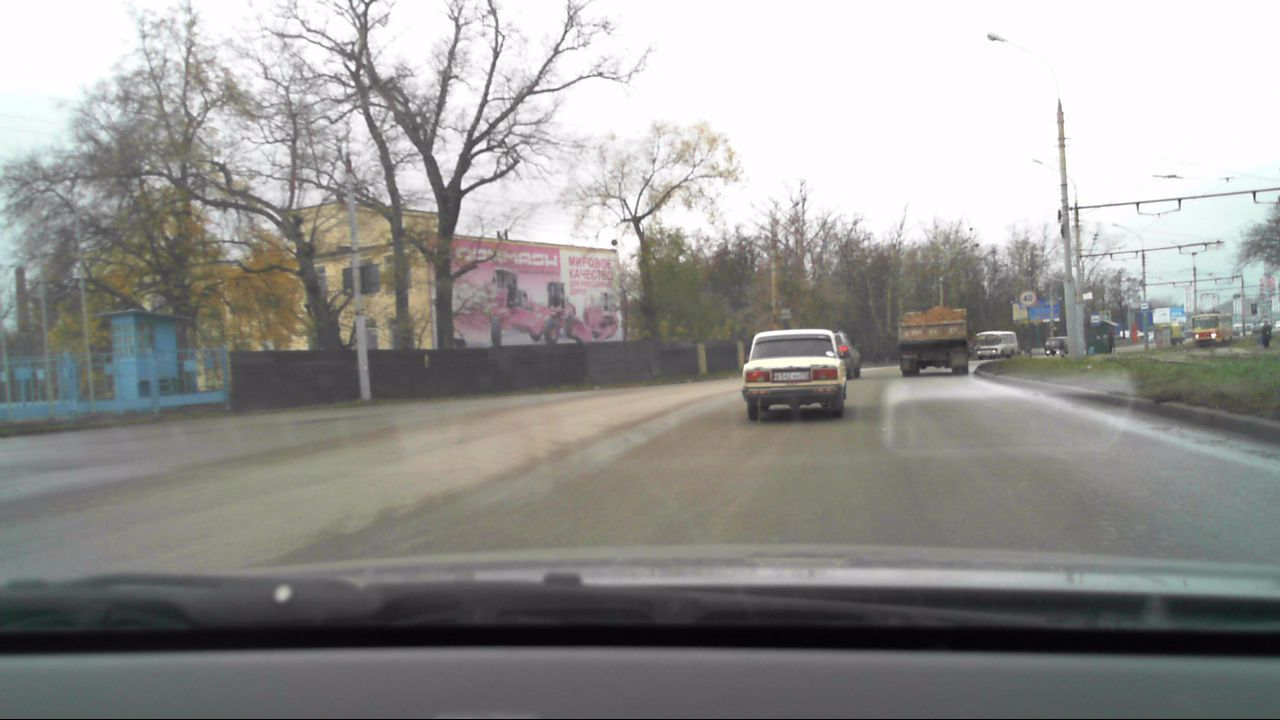speed_warning_40: (1019, 289, 1039, 310)
